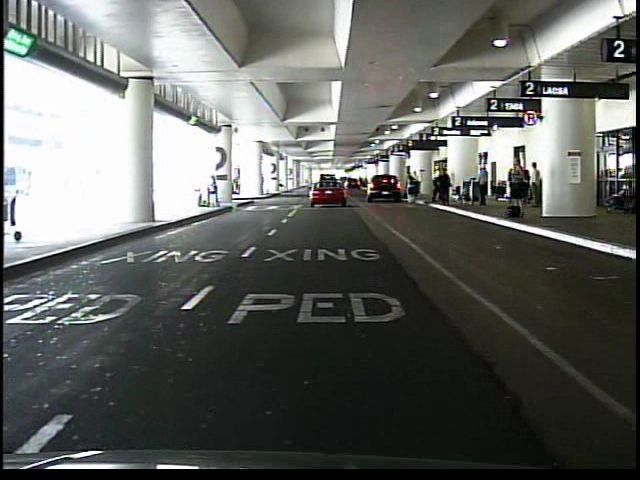person: (508, 158, 528, 222), (528, 161, 542, 209), (478, 166, 491, 208), (207, 173, 222, 209), (439, 170, 453, 208), (406, 171, 419, 206), (433, 167, 444, 204)
